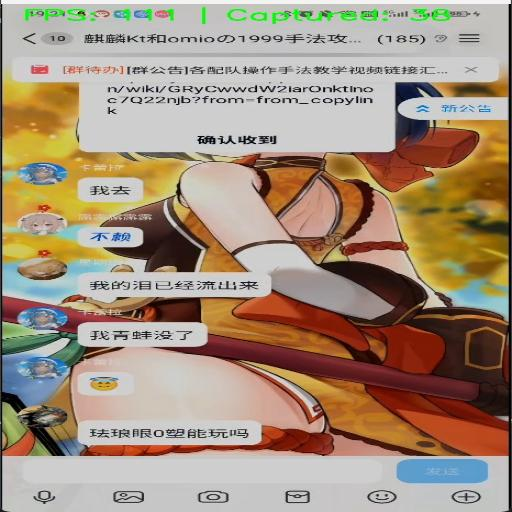back: (10, 28, 46, 48)
butten: (408, 97, 501, 119), (450, 30, 490, 50)
close: (454, 62, 488, 78)
input: (27, 456, 397, 483)
